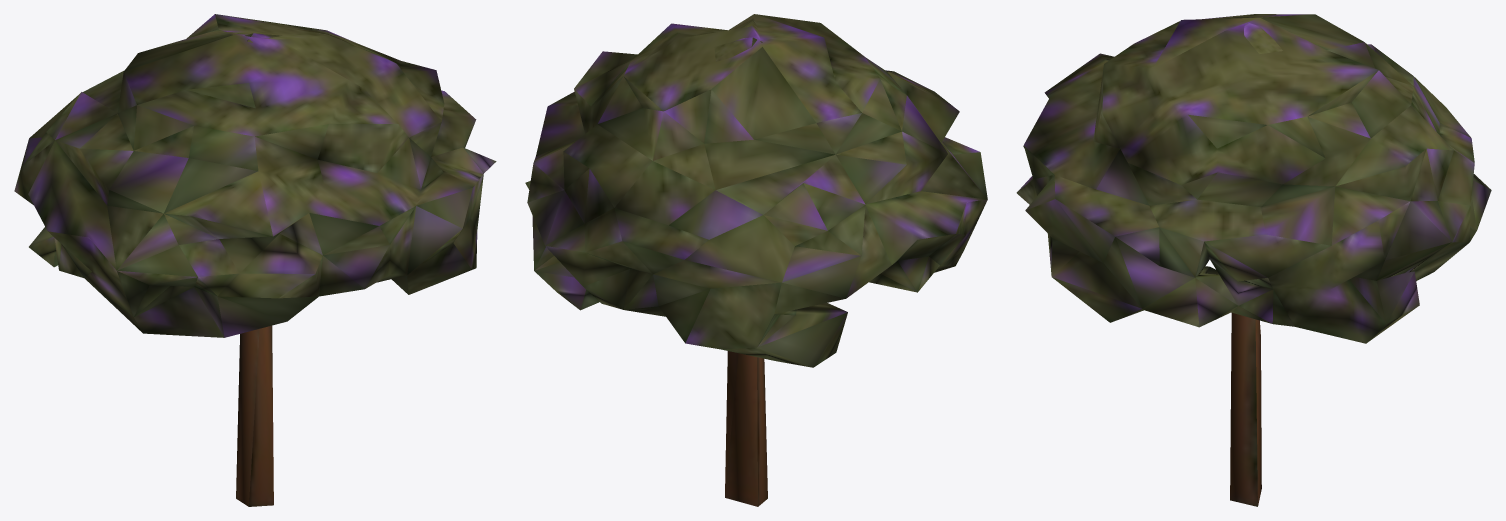
File: tree_round_a_far.glb
The picture shows the model from 3 angles, left to right: view 1: azimuth 30°, elevation 25°; view 2: azimuth 150°, elevation 25°; view 3: azimuth 270°, elevation 25°; orthographic projection.
Parts seen in each view (by area): view 1: body; view 2: body; view 3: body.
Boxes of the visible parts, x1,y1,x2,y2 form: body: (14,14,496,506); body: (525,14,987,506); body: (1016,14,1491,506).
Bounding box in the file's own units: 5.24 × 5.53 × 5.04.
Materials: 2 (2 with a texture image).
